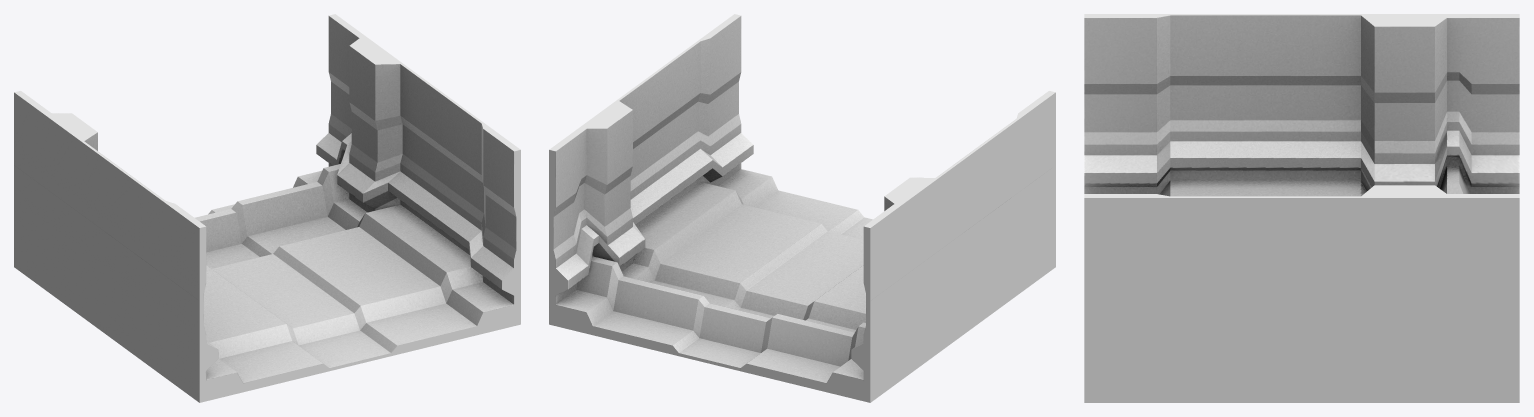
File: spaceBackGround01.fbx
The picture shows the model from 3 angles, left to right: view 1: azimuth 30°, elevation 25°; view 2: azimuth 150°, elevation 25°; view 3: azimuth 270°, elevation 25°; orthographic projection. The views are drawn at different scales.
Visible parts, largest first — view 1: Cube; view 2: Cube; view 3: Cube.
Boxes of the visible parts, x1,y1,x2,y2 form: Cube: [14, 14, 520, 402]; Cube: [549, 14, 1055, 402]; Cube: [1084, 14, 1519, 402].
Size of the model in its own units: 1000 by 520 by 1000.
Materials: 1 (1 with a texture image).
